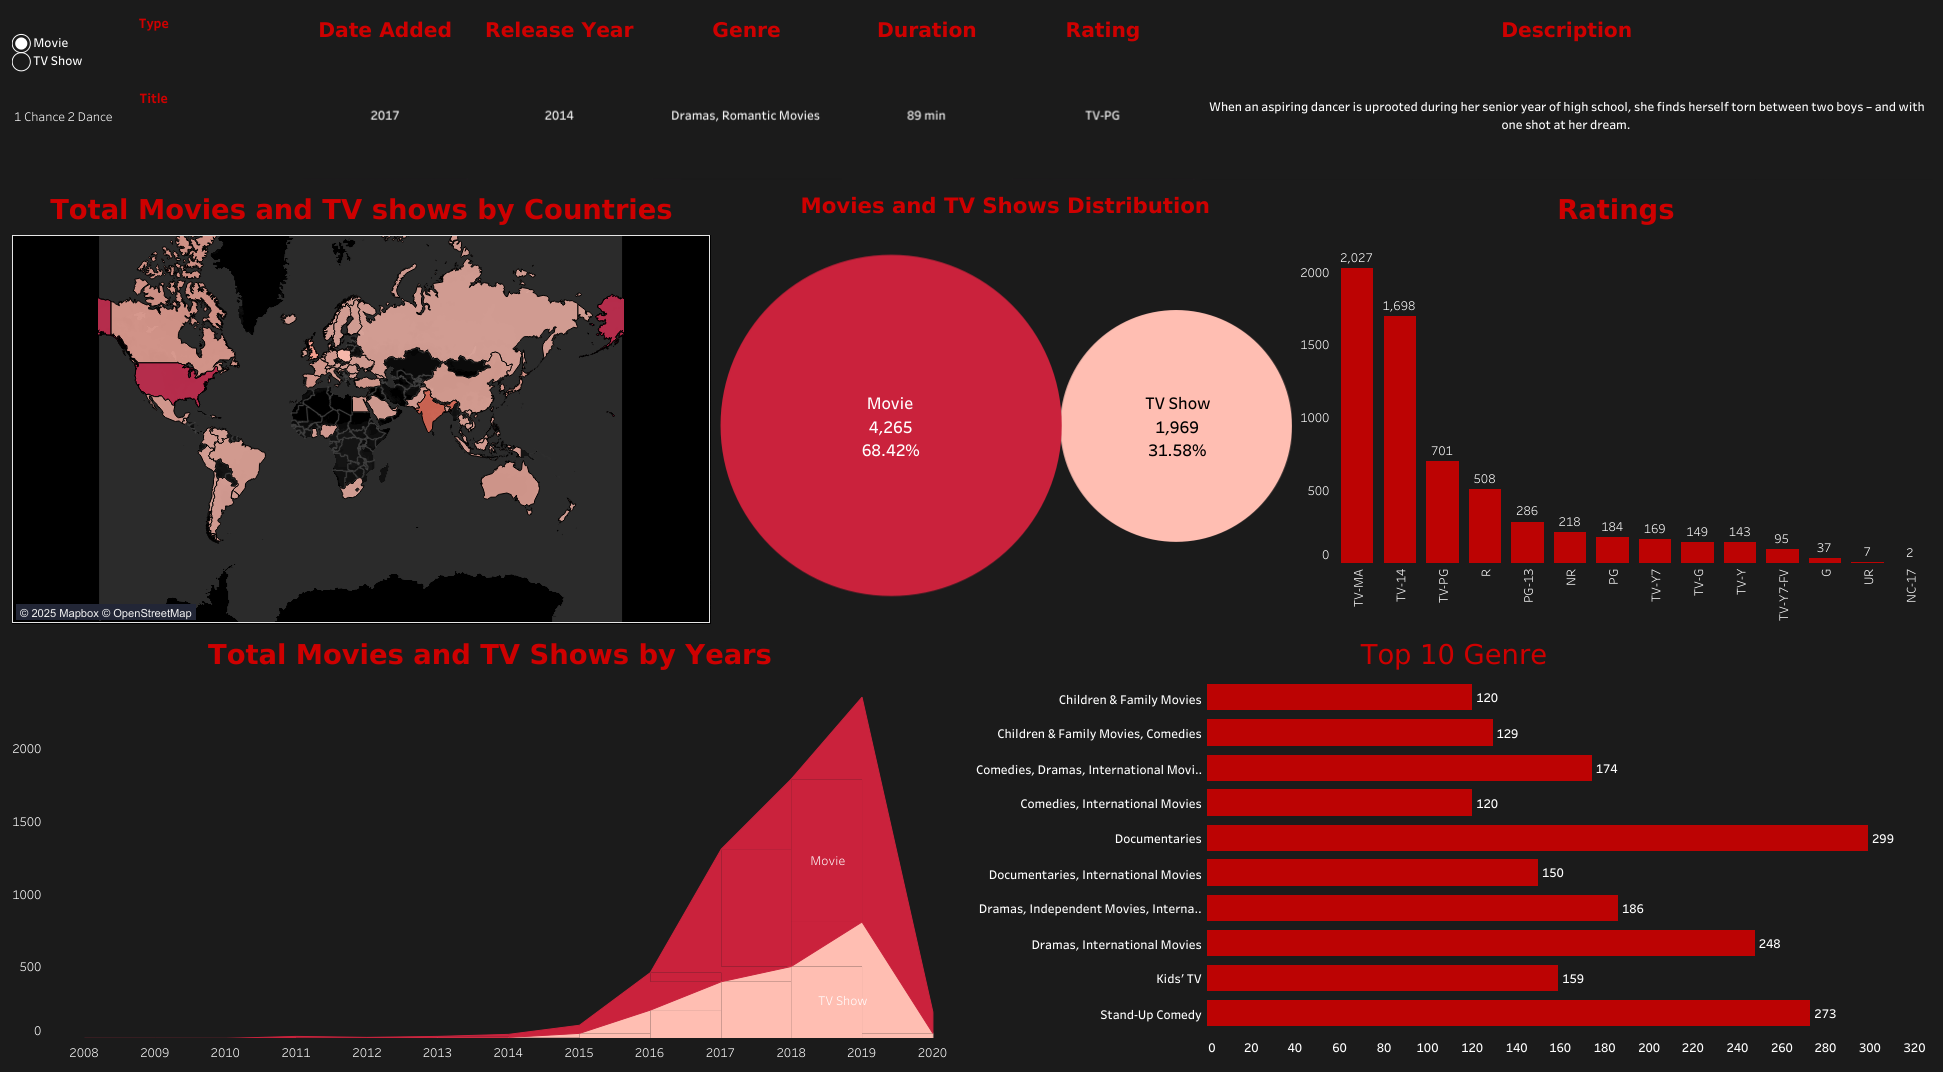

This screenshot's page, from the dashboard's own definition file:
{"tool":"tableau","page":{"name":"Netflix Dasboard","canvas":[1000,1000],"units":"permille","ordinal":0},"visuals":[{"type":"filter","title":"Description","param":"[federated.0u6gvy20i3upre1b2jovs0qj1ao8].[none:type:nk]","box":[4.2,7.5,150,90.6]},{"type":"worksheet","title":"Date Added","mark":"Automatic","box":[154.2,7.5,88,162.3]},{"type":"worksheet","title":"Release Year","mark":"Automatic","box":[242.2,7.5,91.1,162.3]},{"type":"worksheet","title":"Genre","mark":"Automatic","box":[333.3,7.5,101.6,162.3]},{"type":"worksheet","title":"Duration","mark":"Automatic","box":[434.9,7.5,83.9,162.3]},{"type":"worksheet","title":"Rating","mark":"Automatic","box":[518.8,7.5,97.4,162.3]},{"type":"worksheet","title":"Description","mark":"Automatic","box":[616.1,7.5,379.7,162.3]},{"type":"filter","title":"Description","param":"[federated.0u6gvy20i3upre1b2jovs0qj1ao8].[none:title:nk]","box":[4.2,98.1,150,67.9]},{"type":"worksheet","title":"Total Movies and TV shows by Countries ","mark":"Multipolygon","box":[4.2,169.8,363.5,415.1]},{"type":"worksheet","title":"Movies and TV Shows Distribution","mark":"Circle","box":[367.7,169.8,299,415.1]},{"type":"worksheet","title":"Ratings","mark":"Automatic","rows":["show_id"],"cols":["rating"],"box":[666.7,169.8,329.2,415.1]},{"type":"worksheet","title":"Total Movies and TV Shows by Years","mark":"Area","rows":["show_id"],"cols":["date_added"],"box":[4.2,584.9,495.8,407.5]},{"type":"worksheet","title":"Top 10 Genre","mark":"Automatic","rows":["listed_in"],"cols":["show_id"],"box":[500,584.9,495.8,407.5]}]}

Visuals, with their boxes on the dashboard's canvas, which has no fixed pixel size, in thousandths of its width and height (x1, y1, x2, y2). These are canvas units, not pixel positions in the 1943x1072 screenshot, which may show the page scaled, cropped or inside an application window:
"Description" filter: box(4, 8, 154, 98)
"Date Added" worksheet: box(154, 8, 242, 170)
"Release Year" worksheet: box(242, 8, 333, 170)
"Genre" worksheet: box(333, 8, 435, 170)
"Duration" worksheet: box(435, 8, 519, 170)
"Rating" worksheet: box(519, 8, 616, 170)
"Description" worksheet: box(616, 8, 996, 170)
"Description" filter: box(4, 98, 154, 166)
"Total Movies and TV shows by Countries " worksheet (Multipolygon marks): box(4, 170, 368, 585)
"Movies and TV Shows Distribution" worksheet (Circle marks): box(368, 170, 667, 585)
"Ratings" worksheet: box(667, 170, 996, 585)
"Total Movies and TV Shows by Years" worksheet (Area marks): box(4, 585, 500, 992)
"Top 10 Genre" worksheet: box(500, 585, 996, 992)
